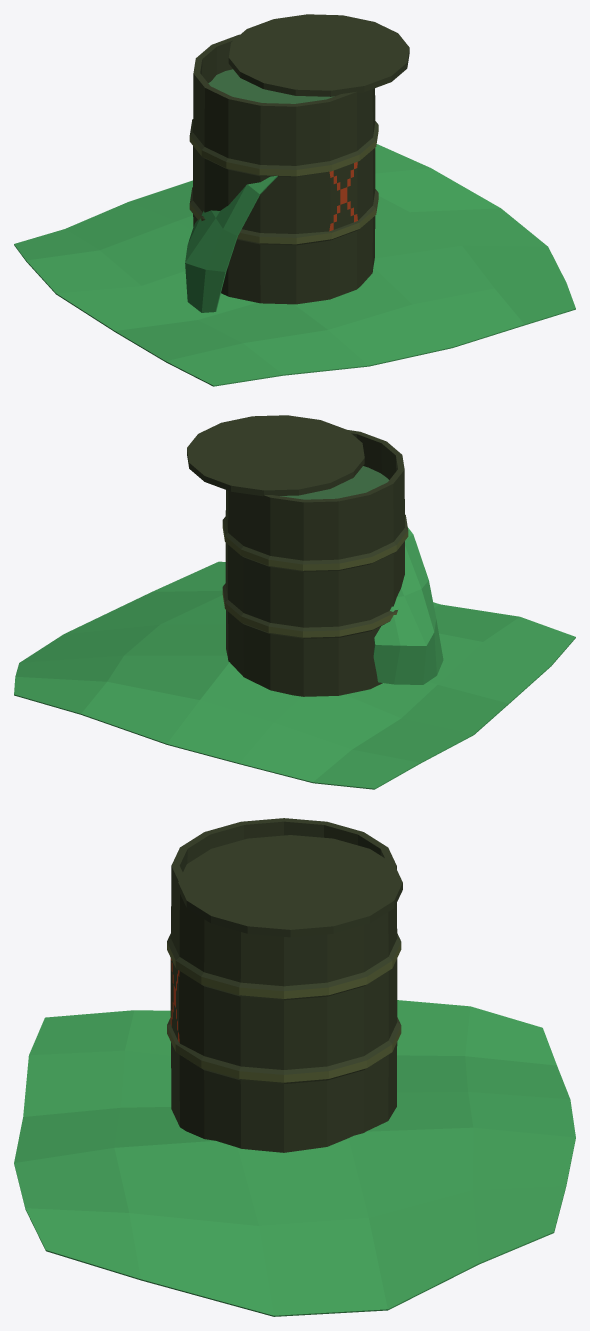
The model's file is barrel_broken.fbx.
3 renders of one model, top to bottom at view 1: azimuth 30°, elevation 25°; view 2: azimuth 150°, elevation 25°; view 3: azimuth 270°, elevation 25°, orthographic. The views are drawn at different scales.
Parts seen in each view (by area): view 1: Plane, Cylinder.000, Cylinder; view 2: Plane, Cylinder.000, Cylinder; view 3: Plane, Cylinder.000.
Part boxes in pixels (x1,y1,x2,y2): Plane: (14,144,575,386); Cylinder.000: (189,14,409,304); Cylinder: (208,69,334,103); Plane: (14,527,575,789); Cylinder.000: (187,415,408,696); Cylinder: (280,466,388,499); Plane: (14,1000,575,1316); Cylinder.000: (167,818,402,1152).
Size of the model in its own units: 233 by 120 by 203.
